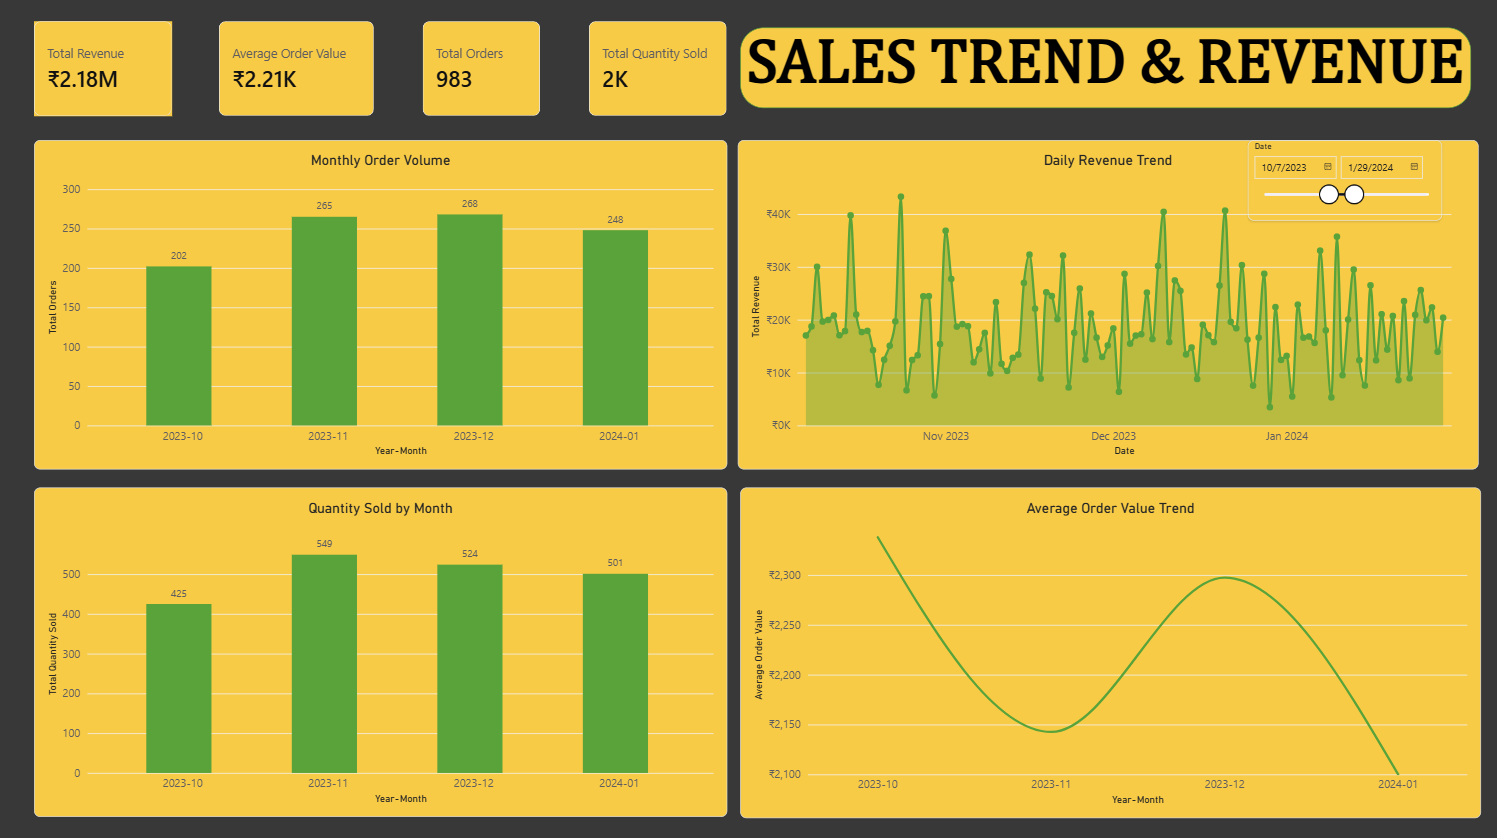

What the dashboard file says about the page in this screenshot:
{"tool":"powerbi","page":{"name":"TREND ANALYSIS","canvas":[1920,1080],"ordinal":1},"visuals":[{"type":"cardVisual","fields":{"Data":["blinkit_orders.Total Revenue"]},"box":[44.2,27.6,176.7,121.5],"z":0},{"type":"cardVisual","fields":{"Data":["blinkit_orders.Total Orders"]},"box":[542.9,27.6,150.9,121.5],"z":1000},{"type":"cardVisual","fields":{"Data":["blinkit_order_items.Total Quantity Sold"]},"box":[754.6,27.6,176.7,121.5],"z":2000},{"type":"cardVisual","fields":{"Data":["blinkit_orders.Average Order Value"]},"box":[281.6,27.6,198.8,121.5],"z":3000},{"type":"lineChart","title":"Average Order Value Trend","fields":{"Category":["DateTable.Year-Month"],"Y":["blinkit_orders.Average Order Value"]},"box":[947.9,623.9,947.9,423.3],"z":4000},{"type":"lineChart","title":"Daily Revenue Trend","fields":{"Category":["DateTable.Date"],"Y":["blinkit_orders.Total Revenue"]},"box":[946,178.5,947.9,421.5],"z":5000},{"type":"slicer","fields":{"Values":["DateTable.Date"]},"box":[1597.6,178.5,248.5,103.1],"z":6000},{"type":"clusteredColumnChart","title":"Monthly Order Volume","fields":{"Category":["DateTable.Year-Month"],"Y":["blinkit_orders.Total Orders"]},"box":[44.2,178.5,887.1,421.5],"z":7000},{"type":"clusteredColumnChart","title":"Quantity Sold by Month","fields":{"Category":["DateTable.Year-Month"],"Y":["blinkit_order_items.Total Quantity Sold"]},"box":[44.2,623.9,887.1,421.5],"z":8000},{"type":"textbox","box":[947.9,35,935,103.1],"z":9000}]}

Visuals, with their boxes in screenshot pixels (x1, y1, x2, y2), scaled from the page's 1920x1080 canvas onto the 1497x838 screenshot:
cardVisual - blinkit_orders.Total Revenue: box=[34, 21, 172, 116]
cardVisual - blinkit_orders.Total Orders: box=[423, 21, 541, 116]
cardVisual - blinkit_order_items.Total Quantity Sold: box=[588, 21, 726, 116]
cardVisual - blinkit_orders.Average Order Value: box=[220, 21, 375, 116]
"Average Order Value Trend" lineChart: box=[739, 484, 1478, 813]
"Daily Revenue Trend" lineChart: box=[738, 139, 1477, 466]
slicer - DateTable.Date: box=[1246, 139, 1439, 219]
"Monthly Order Volume" clusteredColumnChart: box=[34, 139, 726, 466]
"Quantity Sold by Month" clusteredColumnChart: box=[34, 484, 726, 811]
textbox: box=[739, 27, 1468, 107]
